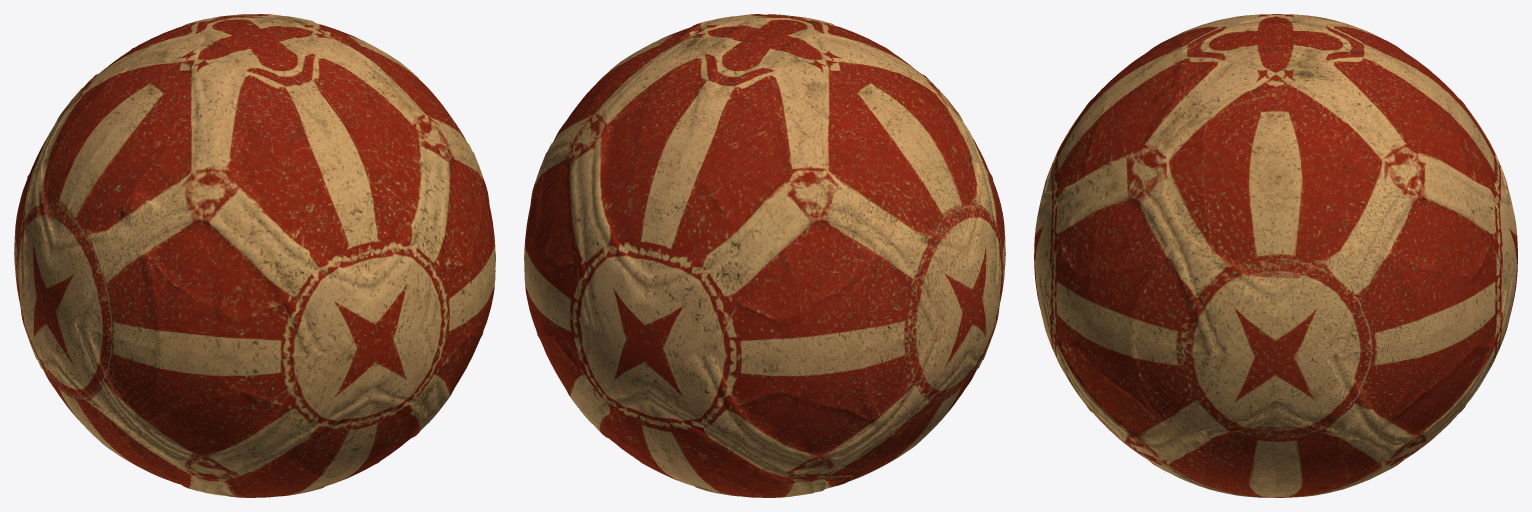
Rendered from Meshy_AI_Vintage_Star_Ball_0513210010_texture.fbx.
3 renders of one model, left to right at view 1: azimuth 30°, elevation 25°; view 2: azimuth 150°, elevation 25°; view 3: azimuth 270°, elevation 25°, orthographic.
Parts seen in each view (by area): view 1: Mesh_0; view 2: Mesh_0; view 3: Mesh_0.
Part boxes in pixels (x1,y1,x2,y2): Mesh_0: (14, 14, 495, 497); Mesh_0: (524, 14, 1005, 497); Mesh_0: (1034, 14, 1517, 497).
Size of the model in its own units: 191 by 191 by 191.
Materials: 1 (1 with a texture image).
